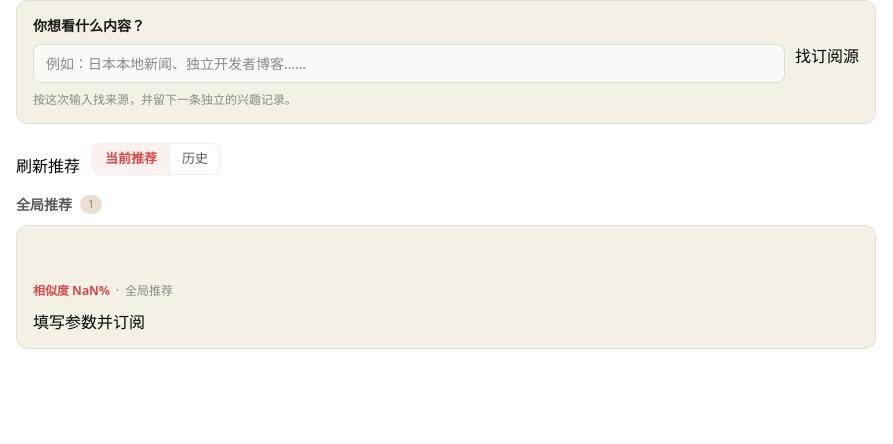
Test: DiscoveryPanel — 查询流状态机（S1） › 成功零条：空态文案明确区分于失败态
Type "量子计算" into the field labelled "你想看什么内容？" at (409, 64), box [33, 44, 785, 83]
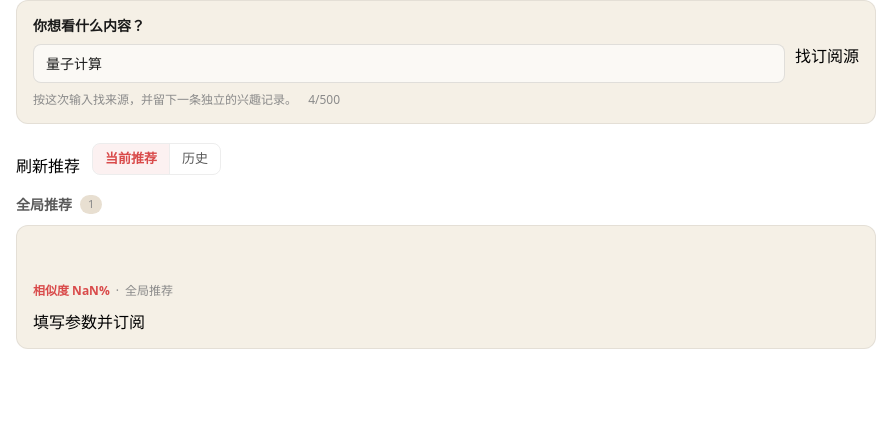
Submit the form with test id "discovery-query-form", box [16, 0, 876, 124]
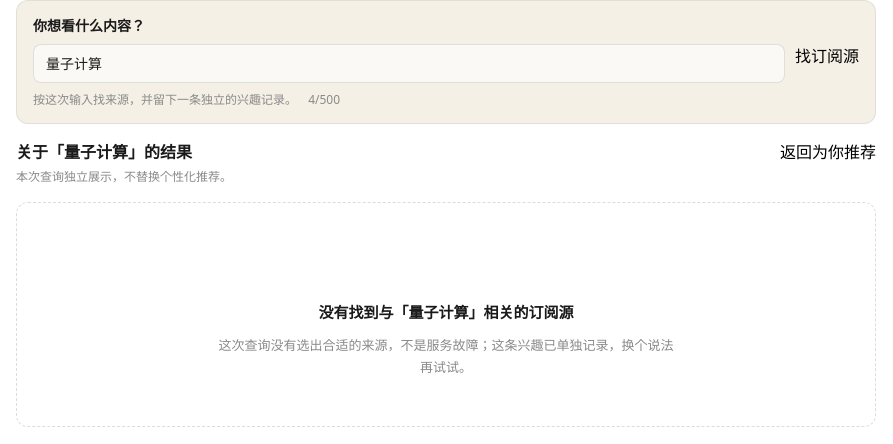
Expected: the element with test id "discovery-run-empty" is shown, [16, 202, 876, 427]
Expected: the element with test id "discovery-run-empty" shows "没有找到", [318, 302, 574, 322]
Expected: the element with test id "discovery-run-empty" shows "不是服务故障", [218, 336, 674, 376]
